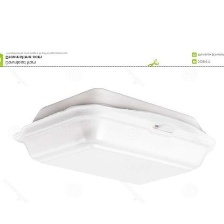foam_box: (8, 84, 218, 192)
